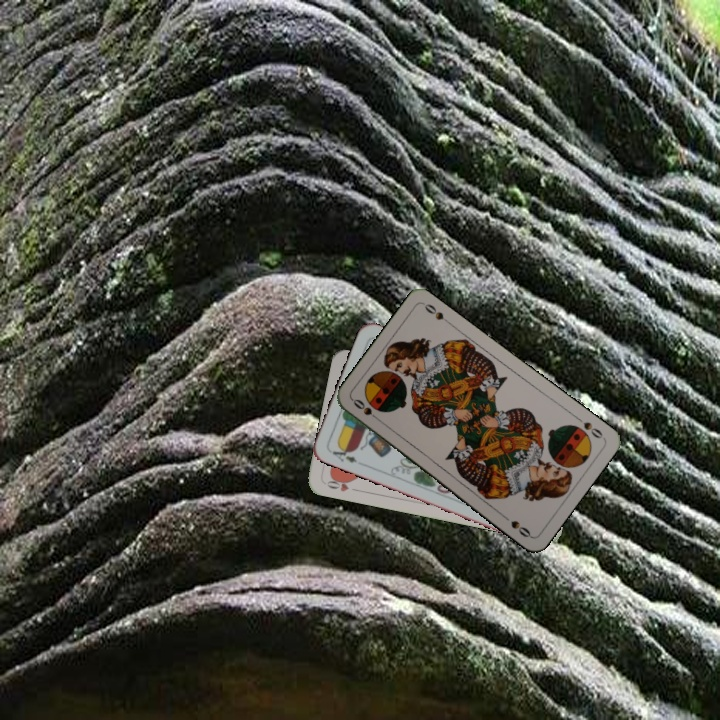EA: (328, 442, 360, 466)
HO: (323, 473, 354, 494)
SO: (349, 395, 384, 424), (571, 412, 606, 441)
